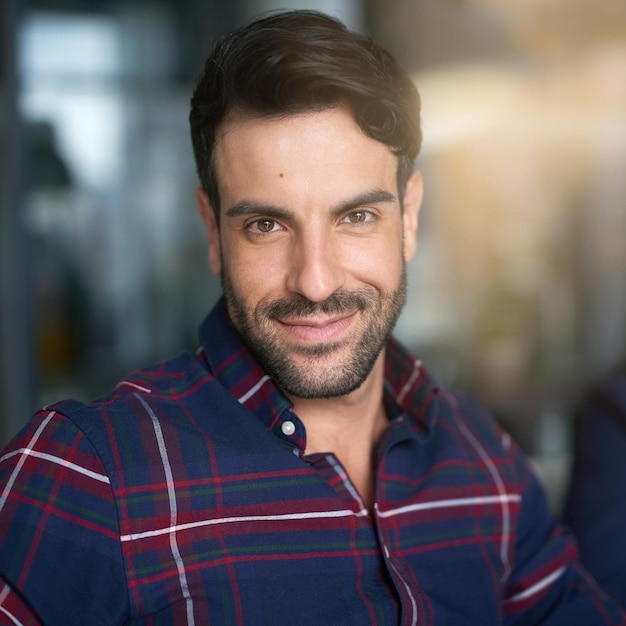young: (190, 21, 433, 408)
